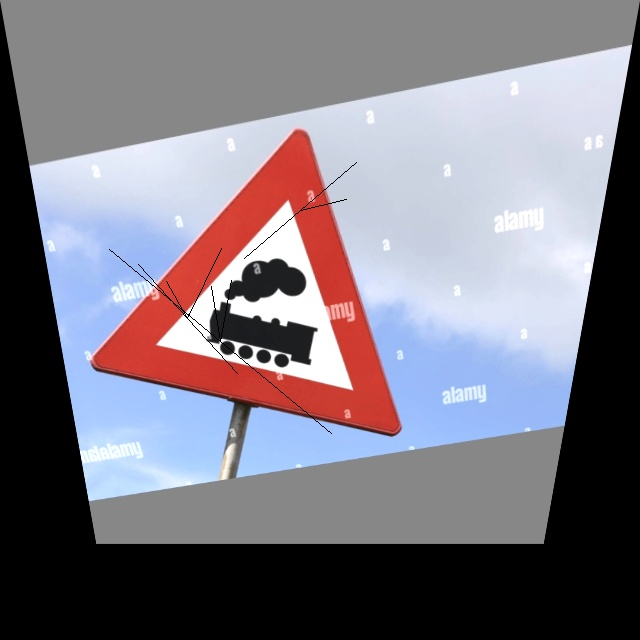Unguarded_Level_Crossing: (53, 120, 414, 440)
